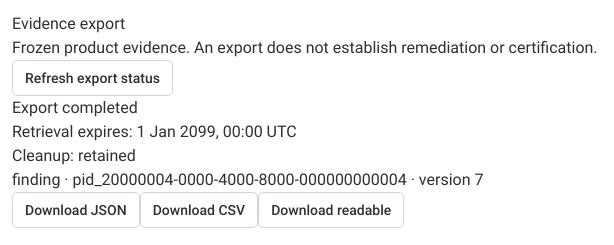
Test: Agent export panel › clears completed status when refresh loses permission
Expected: the button "Download JSON" is shown, [12, 192, 140, 228]
Click the button "Refresh export status" at [92, 78], box [12, 60, 173, 96]
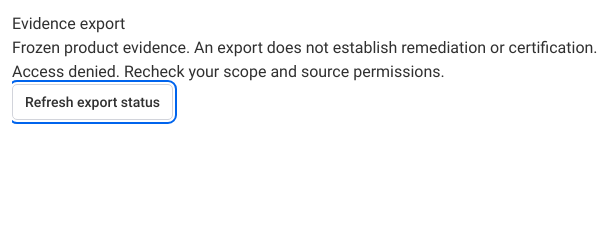
Expected: the button "Download JSON" is gone
Expected: the message shows "Access denied", [12, 62, 445, 81]
